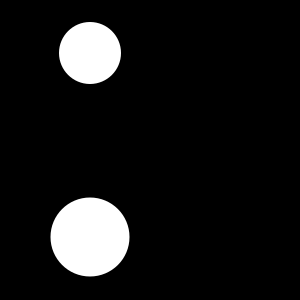rectangle: (50, 198, 130, 276), (59, 22, 121, 84)
